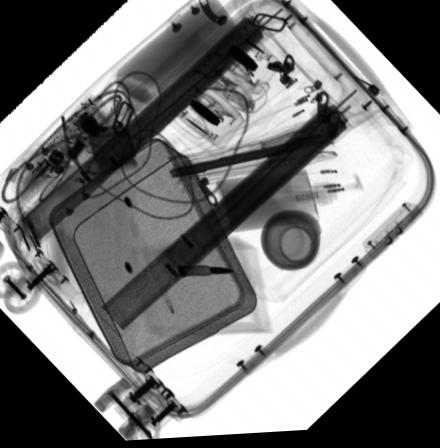Bullet: (176, 266, 234, 280)
